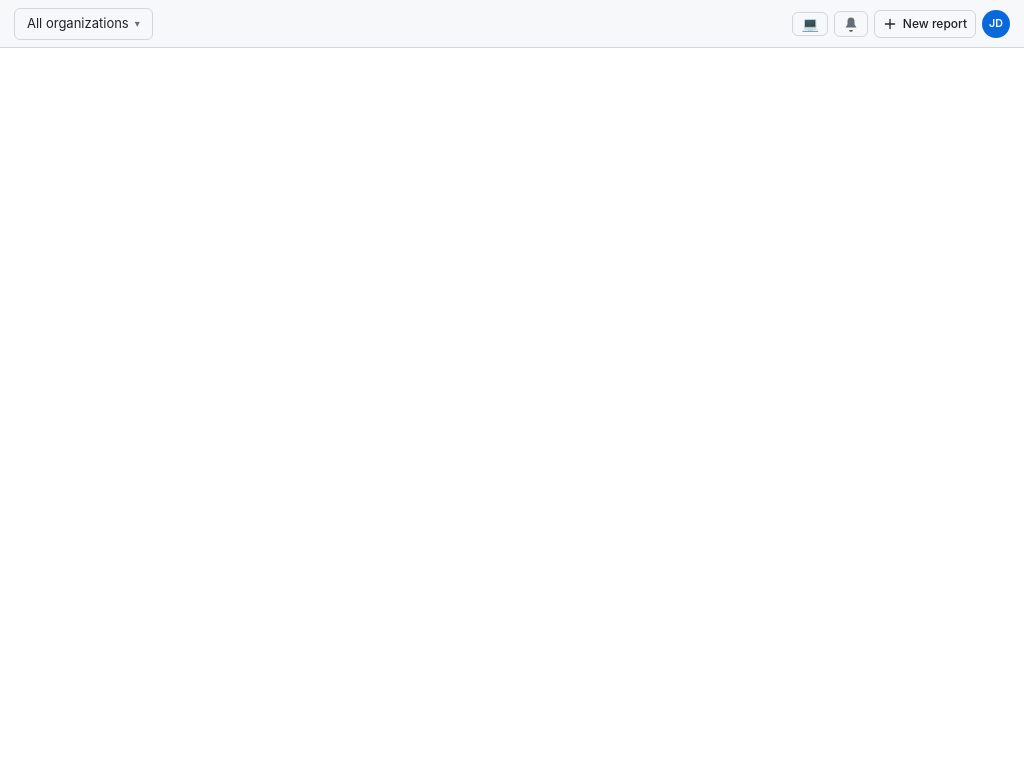
Test: TopBar › closes dropdown when clicking outside
Click the button with aria-label "Select organization" at (83, 24), box [14,8,153,40]
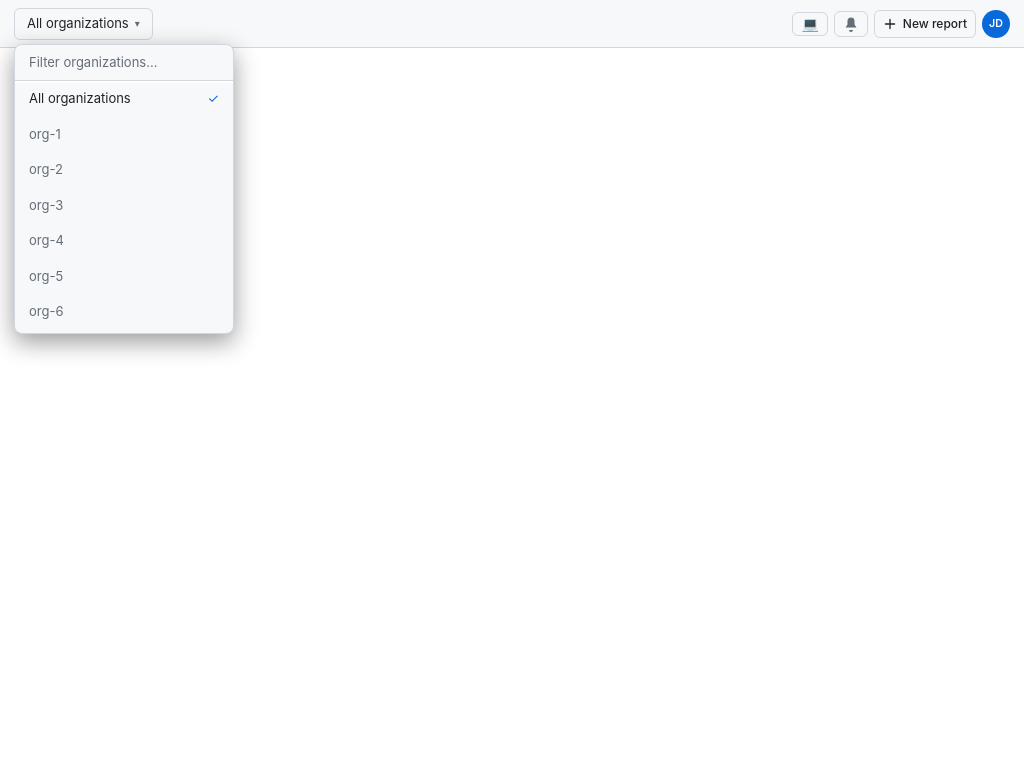
Check: the field labelled "Filter organizations" is shown, box [15,44,233,81]
Press the mouse on the element that starts with "All organizations" at (512, 384), box [0,0,1023,767]
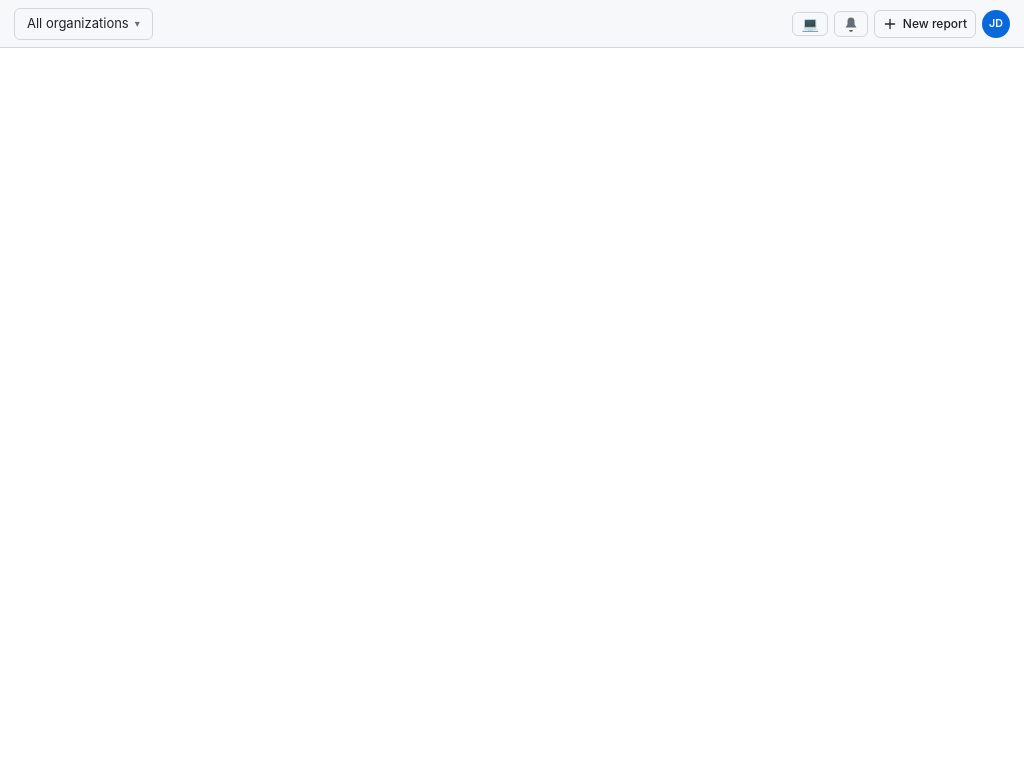
Check: the field labelled "Filter organizations" is gone
